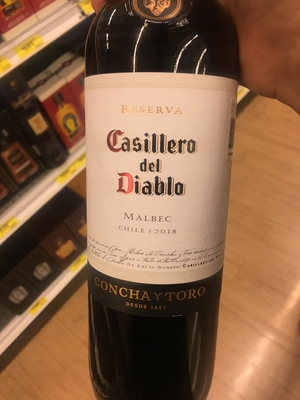casillero del diablo malbec: (66, 4, 239, 400)
